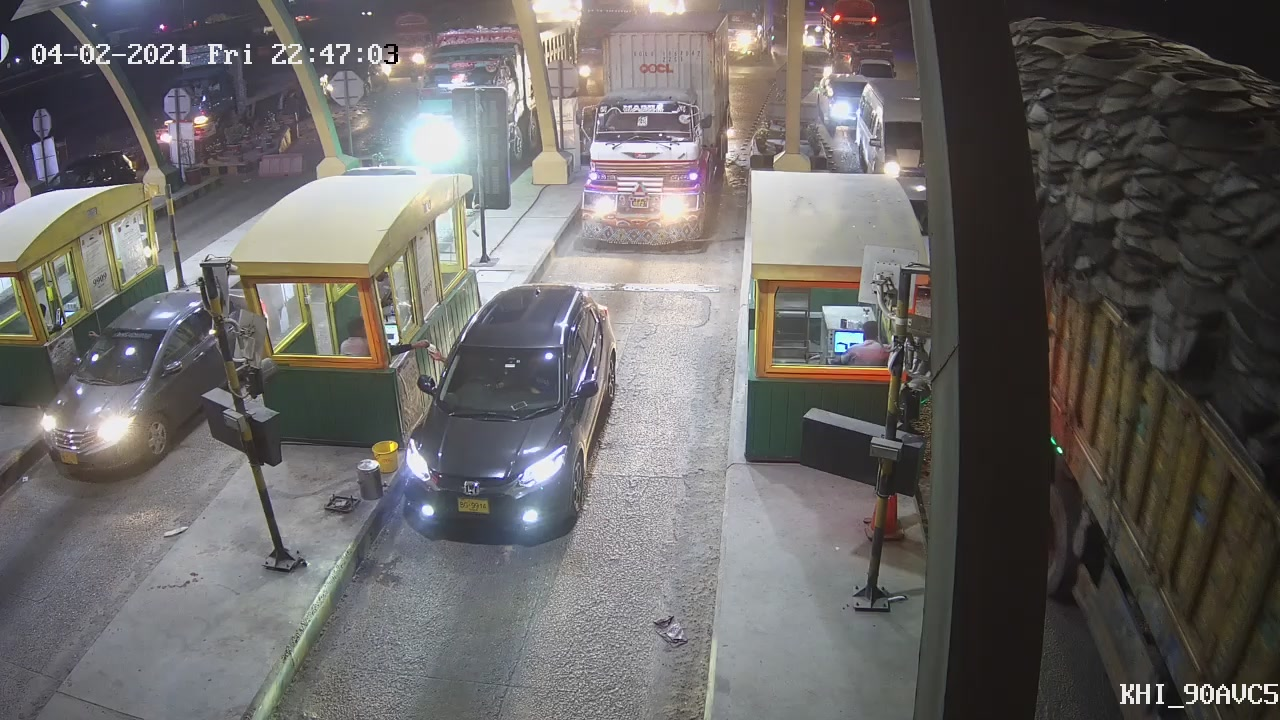F1: (392, 279, 622, 537)
F6: (571, 29, 730, 247)
